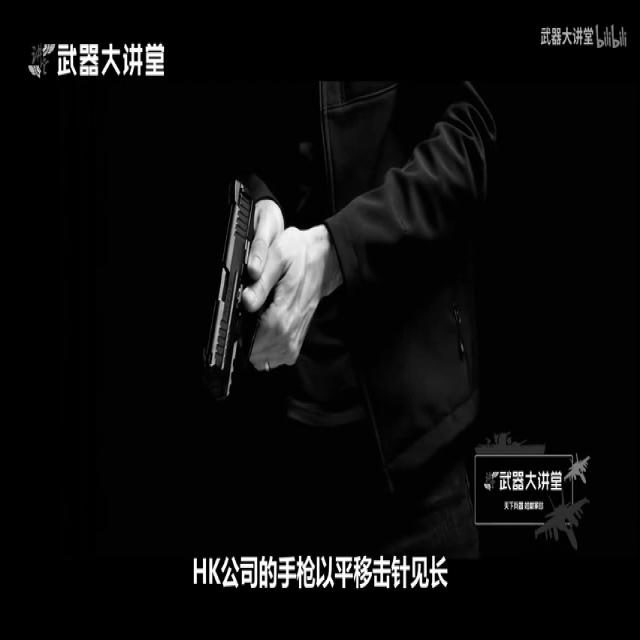Hand-Gun: (203, 148, 255, 407)
